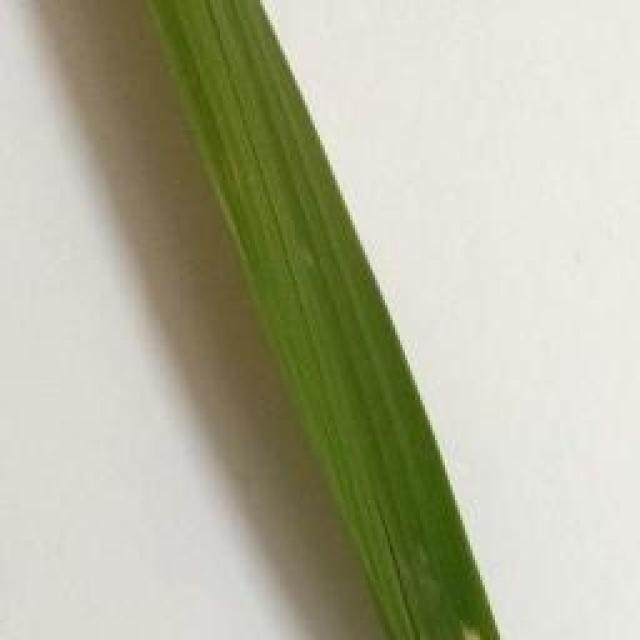Healthy-Plant: (145, 0, 494, 616)
